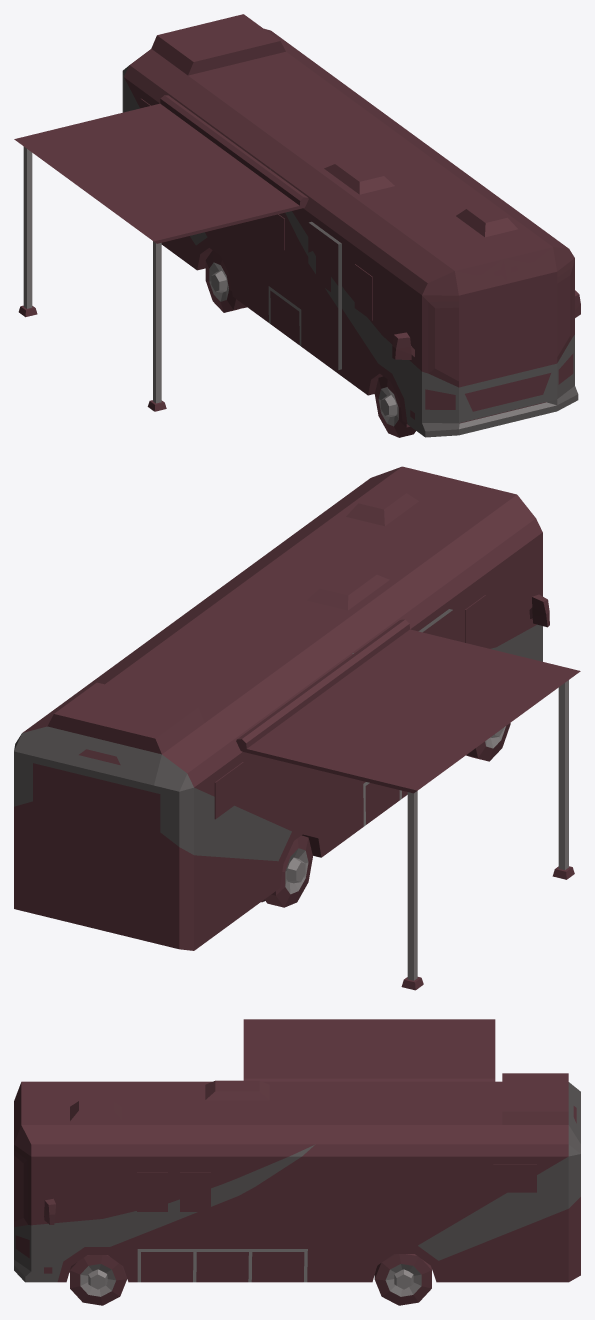
File: car-camper-bus-standing.fbx
3 views of the same model, one above another, from view 1: azimuth 30°, elevation 25°; view 2: azimuth 150°, elevation 25°; view 3: azimuth 270°, elevation 25° (orthographic). The views are drawn at different scales.
Parts seen in each view (by area): view 1: car-camper-bus-standing; view 2: car-camper-bus-standing; view 3: car-camper-bus-standing.
Boxes of the visible parts, bbox=[...] form: car-camper-bus-standing: bbox=[14, 14, 580, 437]; car-camper-bus-standing: bbox=[14, 466, 580, 990]; car-camper-bus-standing: bbox=[14, 1019, 580, 1305].
Bounding box in the file's own units: 5.54 × 3.34 × 9.43.
